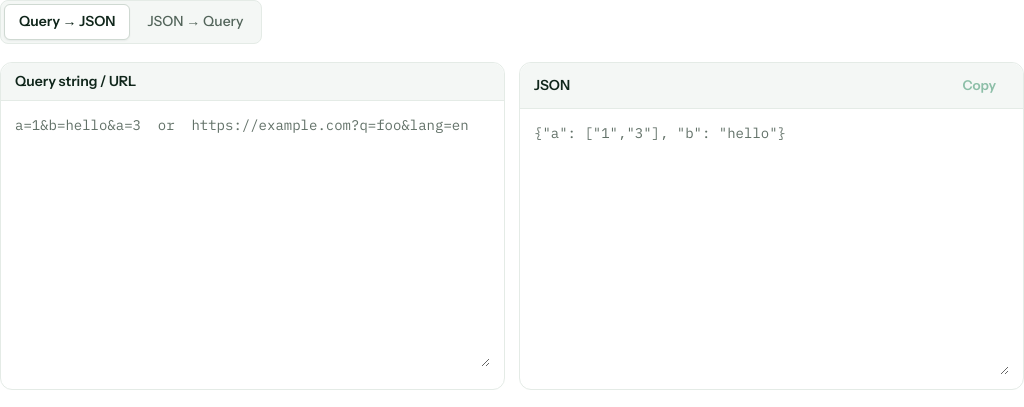
Test case: QueryStringToJson › JSON → Query mode › shows an error for non-object JSON (array at root)
Step 1. Click the tab "JSON → Query" → (195, 22), box [132, 4, 258, 40]
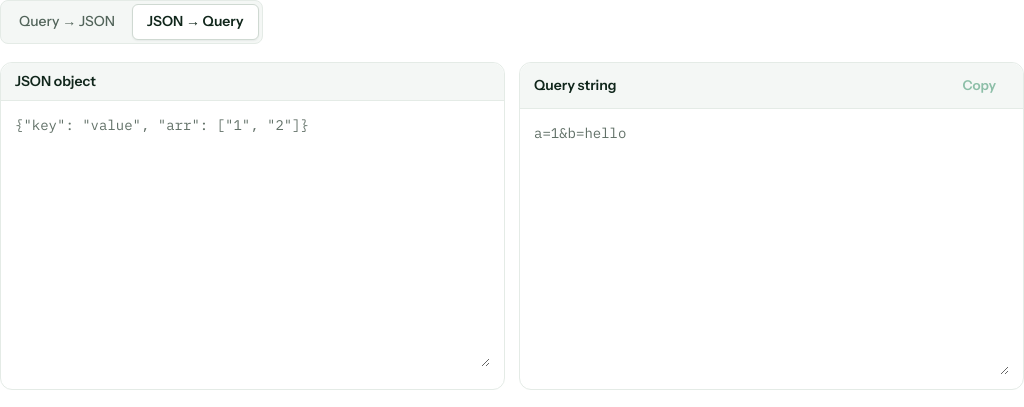
Step 2. Type "[1,2,3]" into the text box with placeholder "{\"key\": \"value\", \"arr\": [\"1\", \"2\"]}" → (252, 241), box [15, 115, 490, 367]
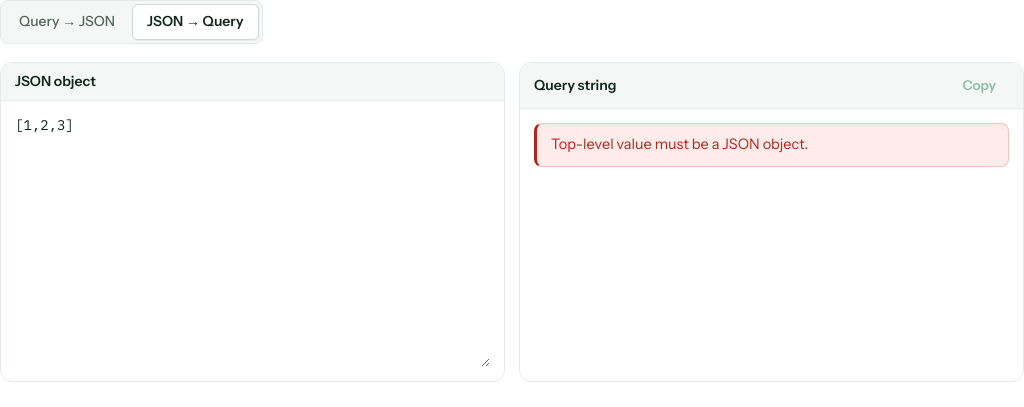
Result: the text "Top-level value must be a JSON object." is shown at [534, 123, 1009, 167]
